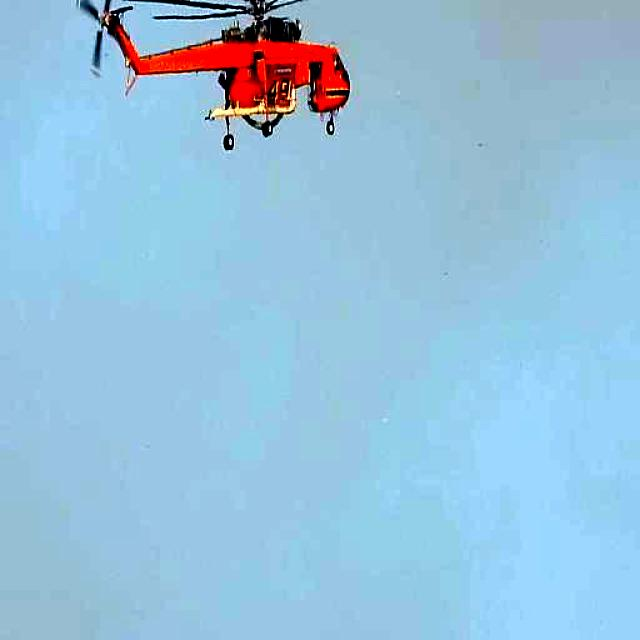drone: (75, 0, 399, 155)
